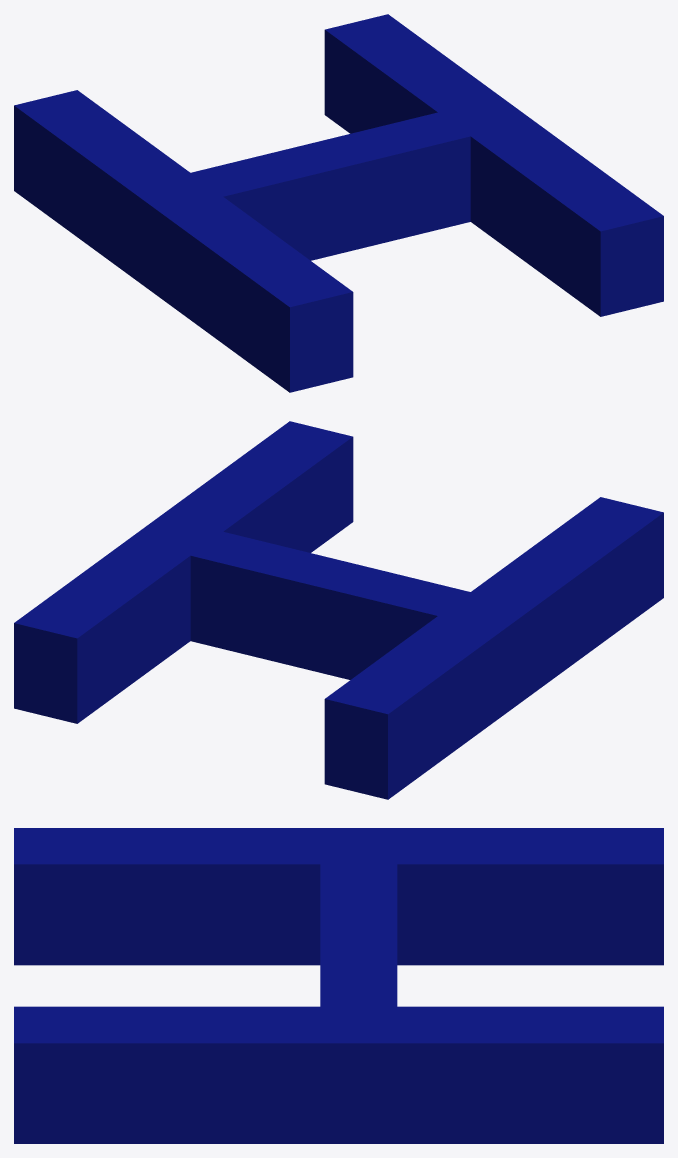
3 renders of one model, top to bottom at view 1: azimuth 30°, elevation 25°; view 2: azimuth 150°, elevation 25°; view 3: azimuth 270°, elevation 25°, orthographic. The views are drawn at different scales.
Visible parts, largest first — view 1: TextPlus008; view 2: TextPlus008; view 3: TextPlus008.
Part boxes in pixels (x1,y1,x2,y2): TextPlus008: (14, 14, 663, 392); TextPlus008: (14, 421, 663, 799); TextPlus008: (14, 828, 663, 1143).
Bounding box in the file's own units: 20.08 × 4.38 × 25.64.
